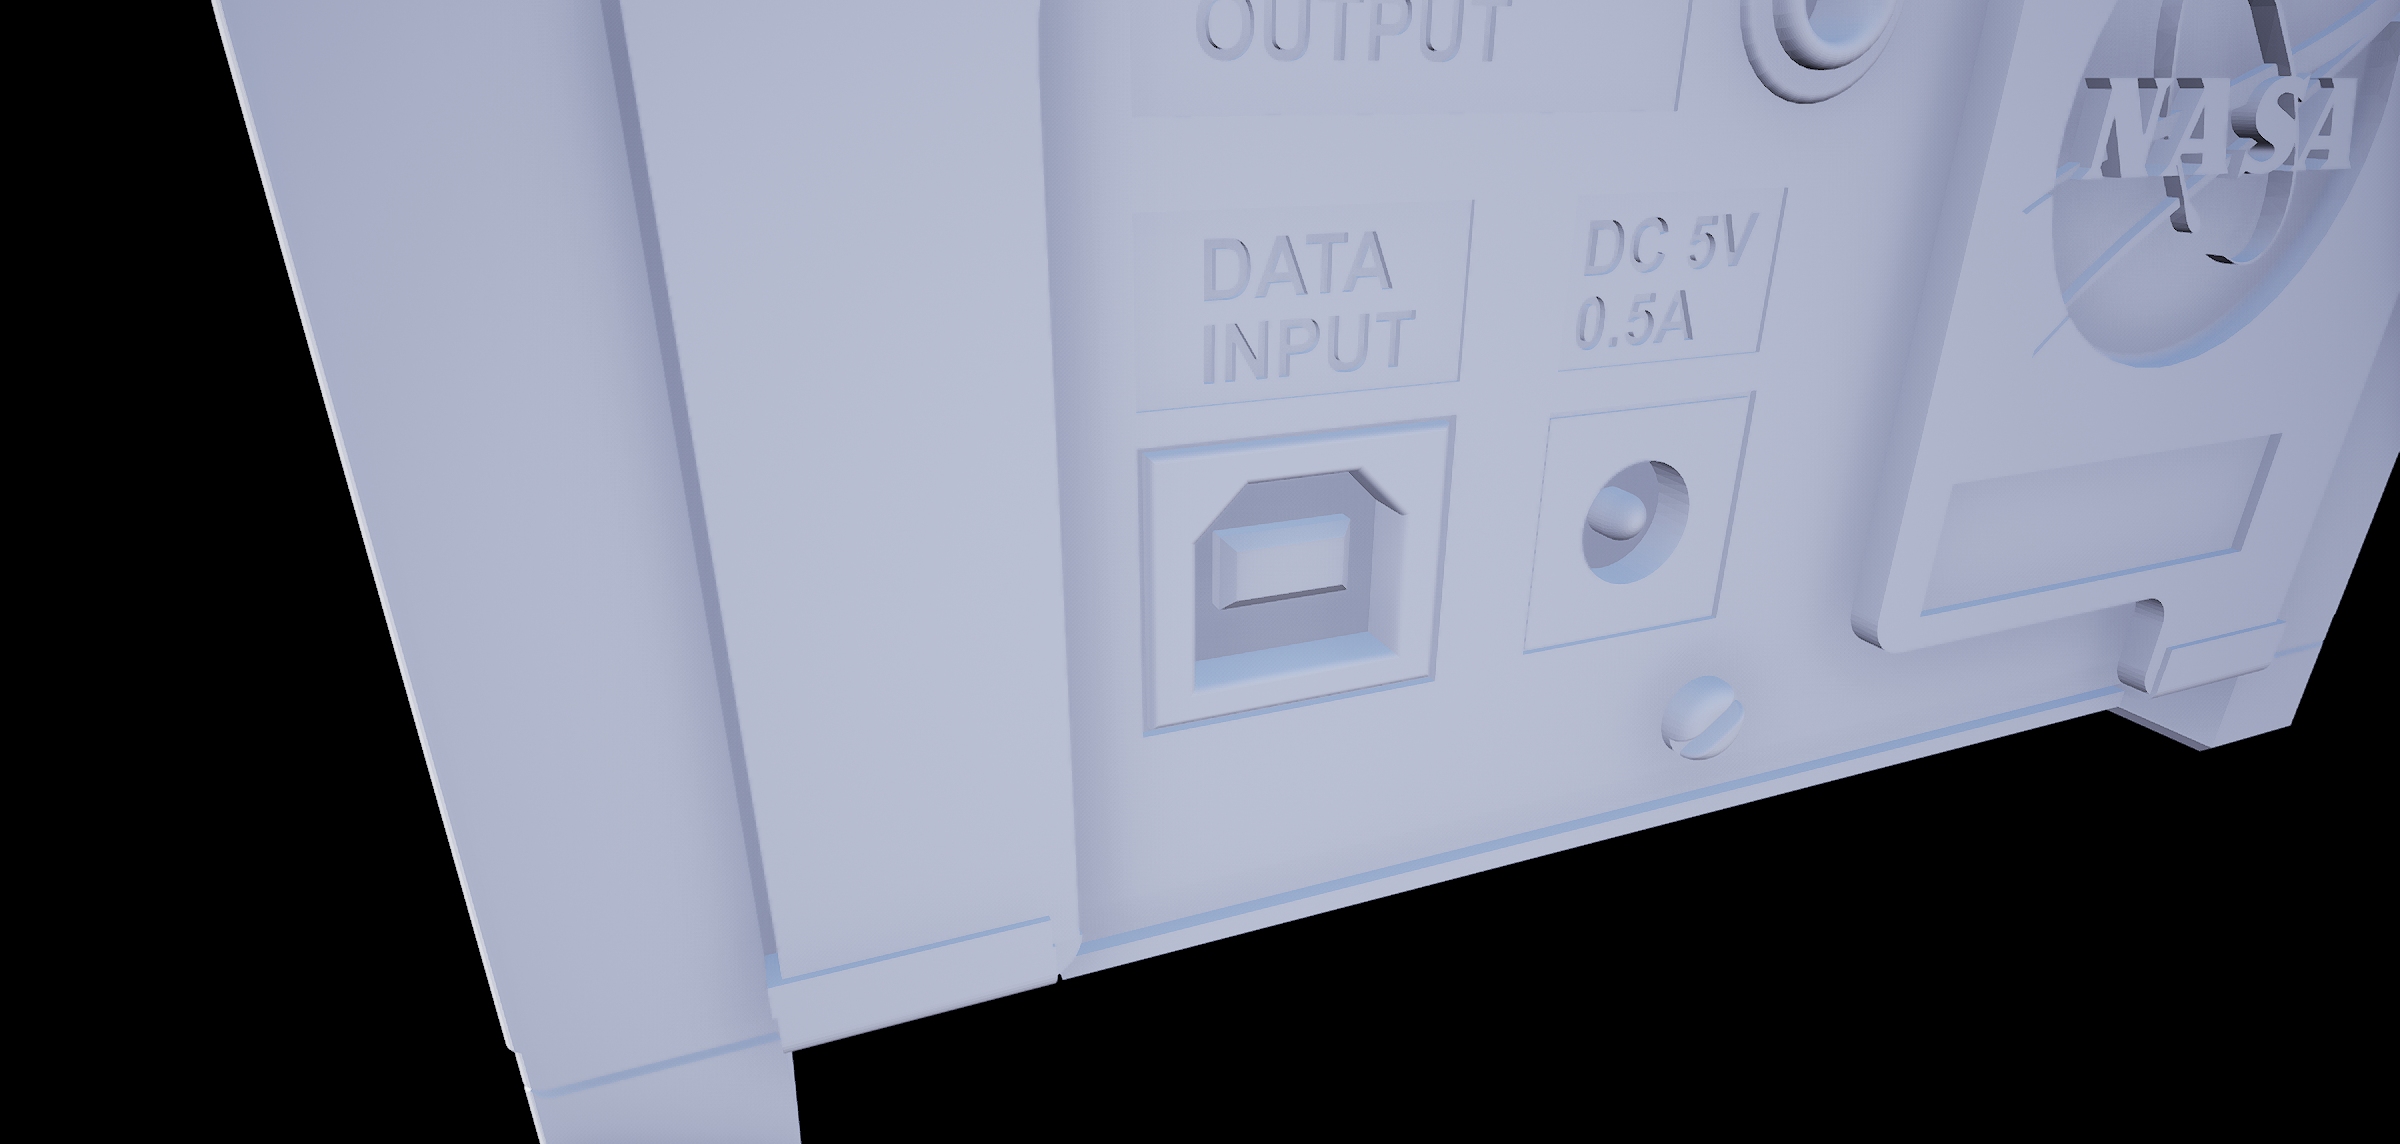aux: (1727, 2, 1921, 119)
dc: (1569, 450, 1697, 599)
usb: (1182, 459, 1427, 685)
